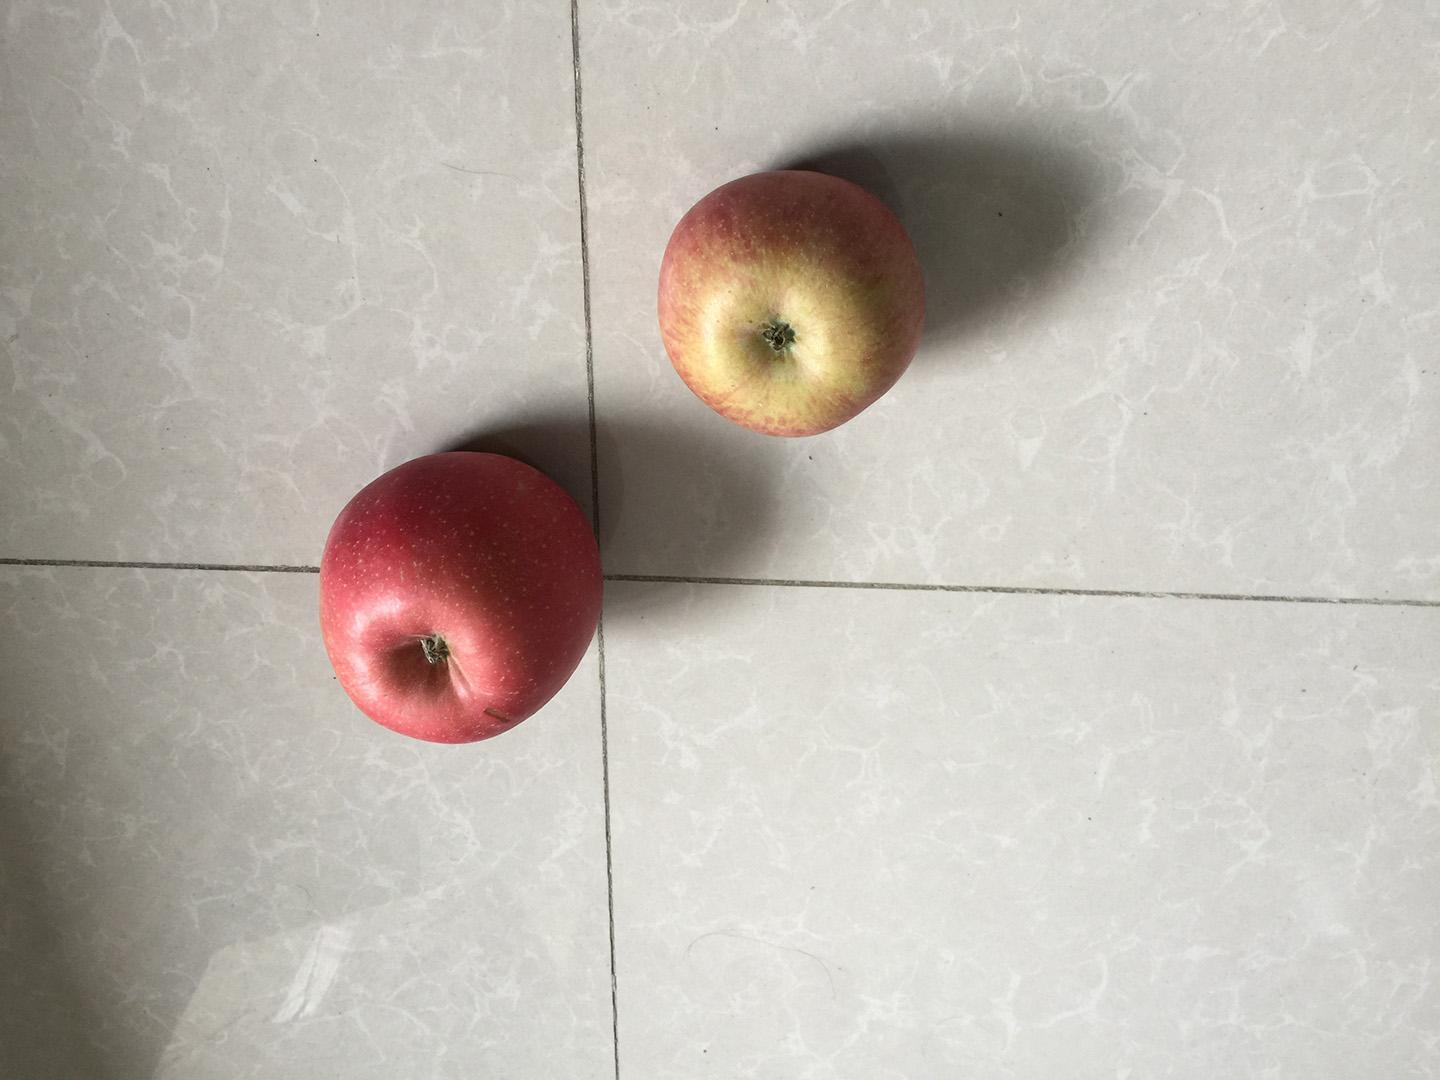apple: (310, 440, 609, 749), (650, 162, 934, 442)
